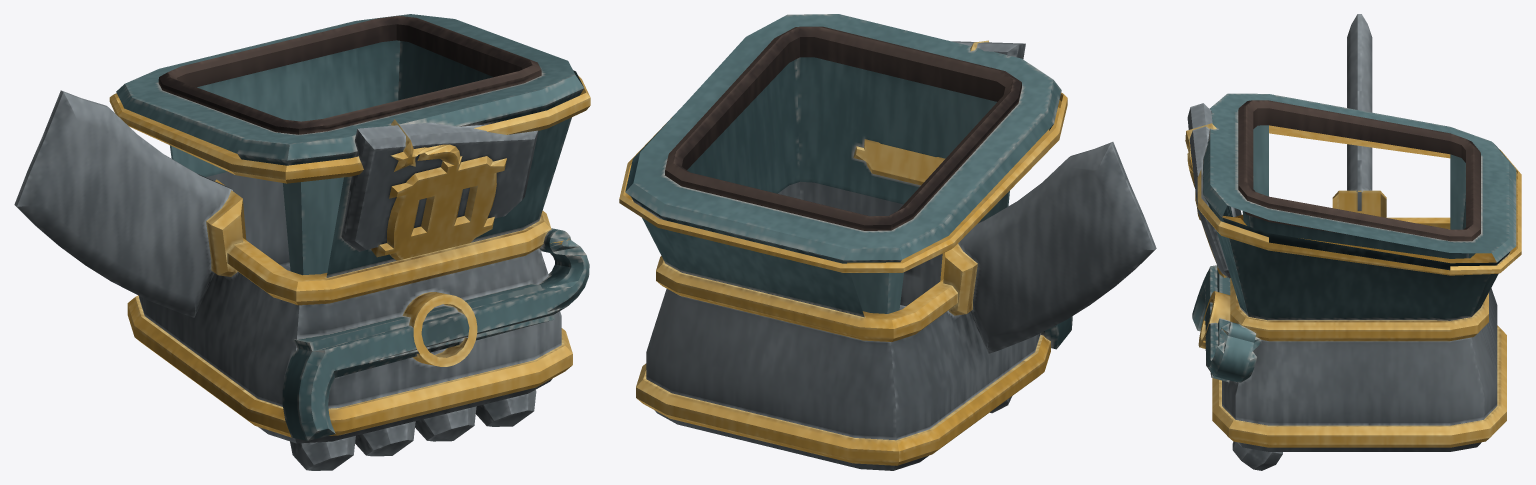
The model's file is Powderkeg Knuckles_L.fbx.
3 renders of one model, left to right at view 1: azimuth 30°, elevation 25°; view 2: azimuth 150°, elevation 25°; view 3: azimuth 270°, elevation 25°, orthographic. The views are drawn at different scales.
Parts seen in each view (by area): view 1: Powderkeg Knuckles_L; view 2: Powderkeg Knuckles_L; view 3: Powderkeg Knuckles_L.
Boxes of the visible parts, x1,y1,x2,y2 form: Powderkeg Knuckles_L: (14,14,590,470); Powderkeg Knuckles_L: (619,14,1156,470); Powderkeg Knuckles_L: (1185,14,1521,470).
Size of the model in its own units: 2.26 by 1.62 by 1.61.
